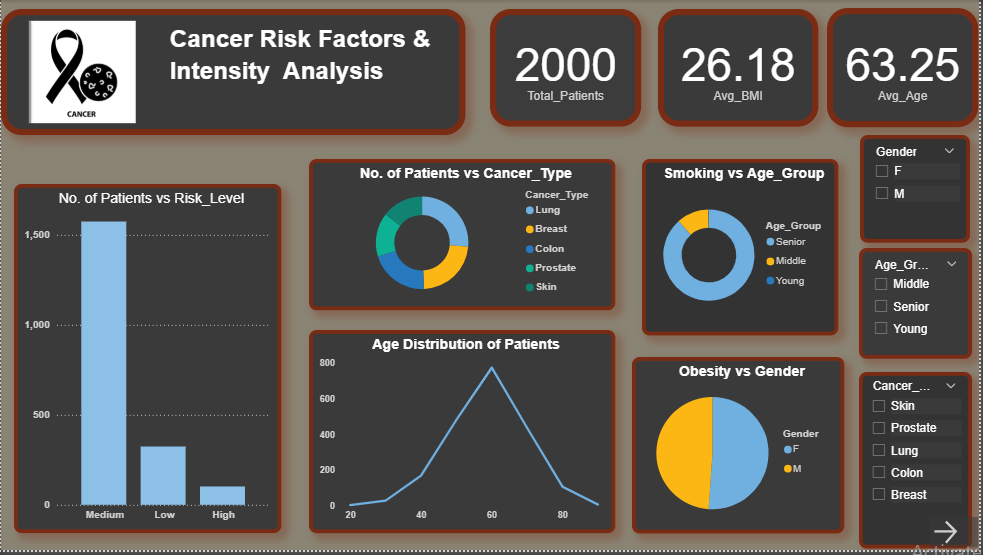

This screenshot's page, from the dashboard's own definition file:
{"tool":"powerbi","page":{"name":"Page 1","canvas":[1280,720],"ordinal":0},"visuals":[{"type":"donutChart","title":"No. of Patients vs Cancer_Type","fields":{"Category":["cancer-risk-factors.Cancer_Type"],"Y":["cancer-risk-factors.Total_Patients"]},"box":[402.6,208.7,401.1,198.4],"z":0},{"type":"lineChart","title":"Age Distribution of Patients","fields":{"Category":["cancer-risk-factors.Age (bins)"],"Y":["CountNonNull(cancer-risk-factors.Patient_ID)"]},"box":[402.6,432,401.1,266],"z":1000},{"type":"columnChart","title":"No. of Patients vs Risk_Level","fields":{"Category":["cancer-risk-factors.Risk_Level"],"Y":["CountNonNull(cancer-risk-factors.Patient_ID)"]},"box":[17.6,241,349.7,457],"z":2000},{"type":"slicer","fields":{"Values":["cancer-risk-factors.Gender"]},"box":[1124.1,176.3,144,141.1],"z":3000},{"type":"slicer","fields":{"Values":["cancer-risk-factors.Age_Group"]},"box":[1122.6,324.7,148.4,145.5],"z":4000},{"type":"card","fields":{"Values":["cancer-risk-factors.Avg_Age"]},"box":[1081.5,10.3,198.4,155.8],"z":5000},{"type":"card","fields":{"Values":["cancer-risk-factors.Total_Patients"]},"box":[640.7,11.8,198.4,154.3],"z":6000},{"type":"card","fields":{"Values":["cancer-risk-factors.Avg_BMI"]},"box":[859.6,11.8,210.1,154.3],"z":7000},{"type":"textbox","box":[0,11.8,608.3,164.6],"z":8000},{"type":"image","box":[30.9,22,149.9,144],"z":9000},{"type":"slicer","fields":{"Values":["cancer-risk-factors.Cancer_Type"]},"box":[1122.6,486.4,148.4,230.7],"z":10000},{"type":"pieChart","title":"Obesity vs Gender","fields":{"Category":["cancer-risk-factors.Gender"],"Y":["CountNonNull(cancer-risk-factors.Obesity)"]},"box":[825.8,467.3,277.7,230.7],"z":11000},{"type":"donutChart","title":"Smoking vs Age_Group","fields":{"Category":["cancer-risk-factors.Age_Group"],"Y":["CountNonNull(cancer-risk-factors.Smoking)"]},"box":[839,208.7,257.1,230.7],"z":12000},{"type":"actionButton","box":[1216.7,677.4,63.2,39.7],"z":13000}]}

Visuals, with their boxes in screenshot pixels (x1, y1, x2, y2), scaled from the page's 1280x720 canvas onto the 983x555 screenshot:
"No. of Patients vs Cancer_Type" donutChart: locate(309, 161, 617, 314)
"Age Distribution of Patients" lineChart: locate(309, 333, 617, 538)
"No. of Patients vs Risk_Level" columnChart: locate(14, 186, 282, 538)
slicer - cancer-risk-factors.Gender: locate(863, 136, 974, 245)
slicer - cancer-risk-factors.Age_Group: locate(862, 250, 976, 362)
card - cancer-risk-factors.Avg_Age: locate(831, 8, 982, 128)
card - cancer-risk-factors.Total_Patients: locate(492, 9, 644, 128)
card - cancer-risk-factors.Avg_BMI: locate(660, 9, 821, 128)
textbox: locate(0, 9, 467, 136)
image: locate(24, 17, 139, 128)
slicer - cancer-risk-factors.Cancer_Type: locate(862, 375, 976, 553)
"Obesity vs Gender" pieChart: locate(634, 360, 847, 538)
"Smoking vs Age_Group" donutChart: locate(644, 161, 842, 339)
actionButton: locate(934, 522, 982, 553)
